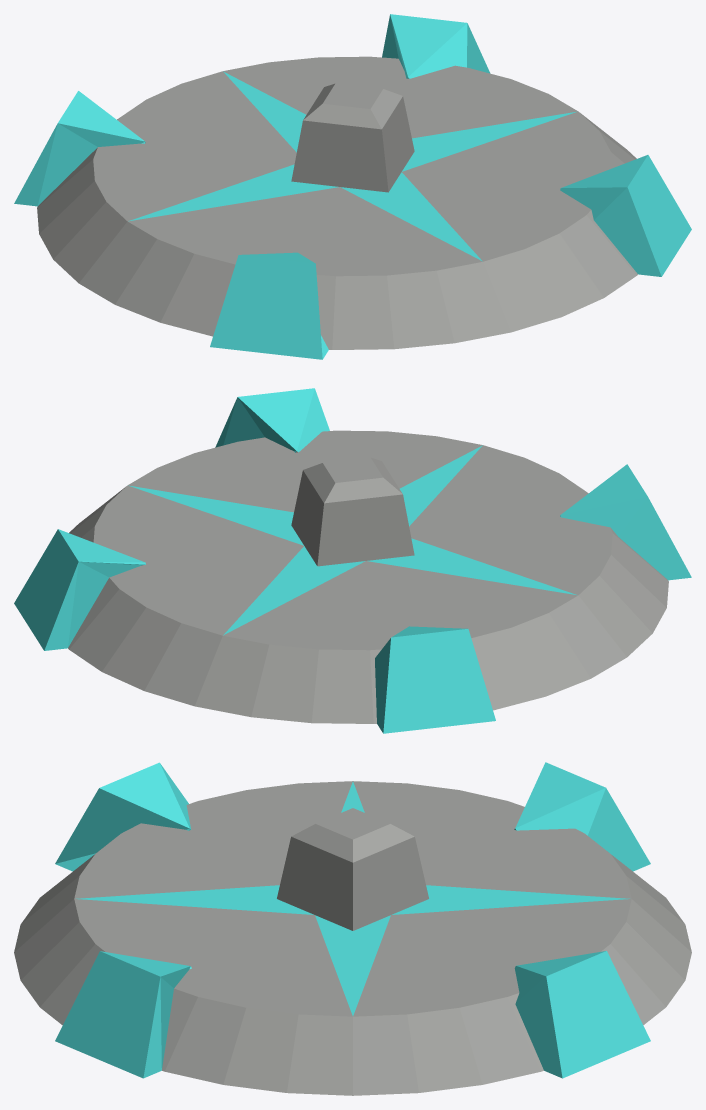
The model's file is Beyblade_Base_Ice.fbx.
3 views of the same model, one above another, from view 1: azimuth 30°, elevation 25°; view 2: azimuth 150°, elevation 25°; view 3: azimuth 270°, elevation 25° (orthographic). The views are drawn at different scales.
Parts seen in each view (by area): view 1: Circle; view 2: Circle; view 3: Circle.
Boxes of the visible parts, bbox=[...] form: Circle: bbox=[14, 14, 691, 359]; Circle: bbox=[14, 388, 691, 733]; Circle: bbox=[14, 762, 691, 1095].
Size of the model in its own units: 200 by 41.92 by 200.
Materials: 1 (1 with a texture image).
